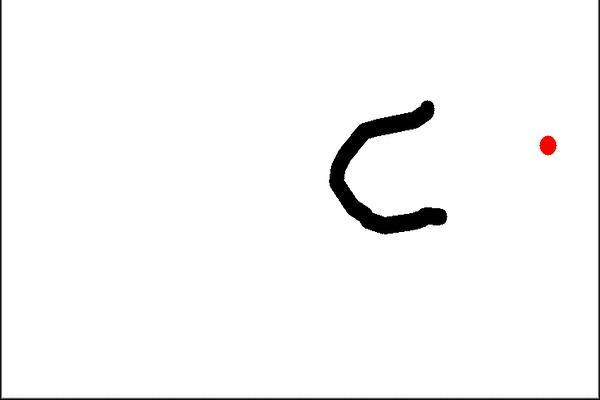C: (313, 91, 451, 237)
